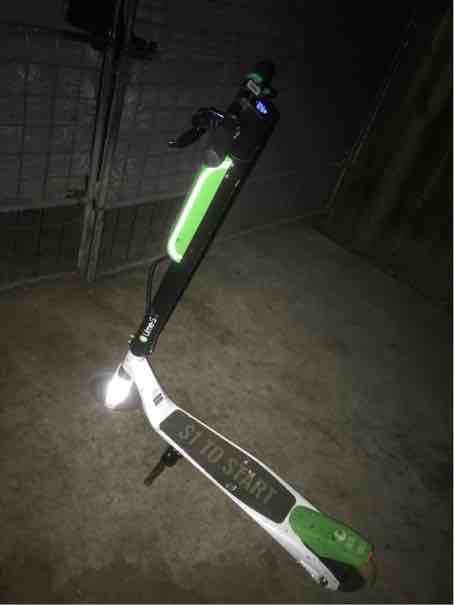scooter: (79, 78, 391, 605)
